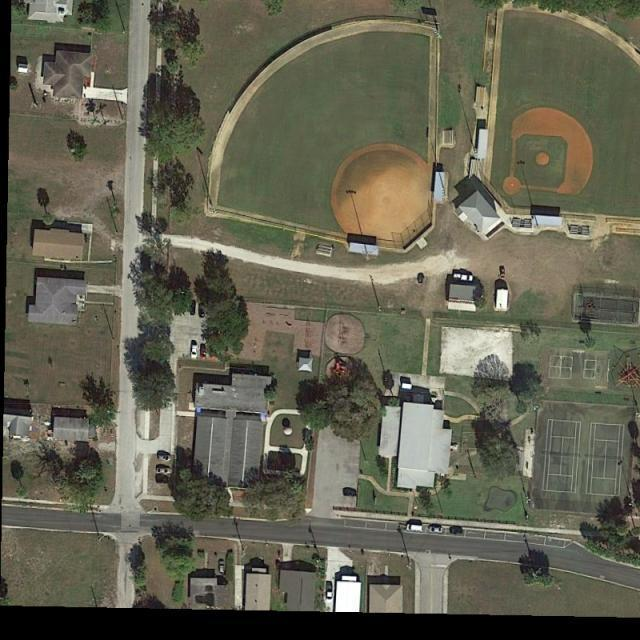vehicle: (448, 526, 465, 536), (454, 273, 474, 280), (342, 489, 357, 497), (326, 585, 333, 601), (408, 524, 422, 532), (429, 526, 443, 534), (198, 302, 205, 318), (156, 452, 171, 459), (218, 558, 225, 573), (189, 300, 196, 315), (199, 342, 205, 358), (155, 468, 171, 474), (500, 266, 506, 281), (192, 345, 198, 358)
